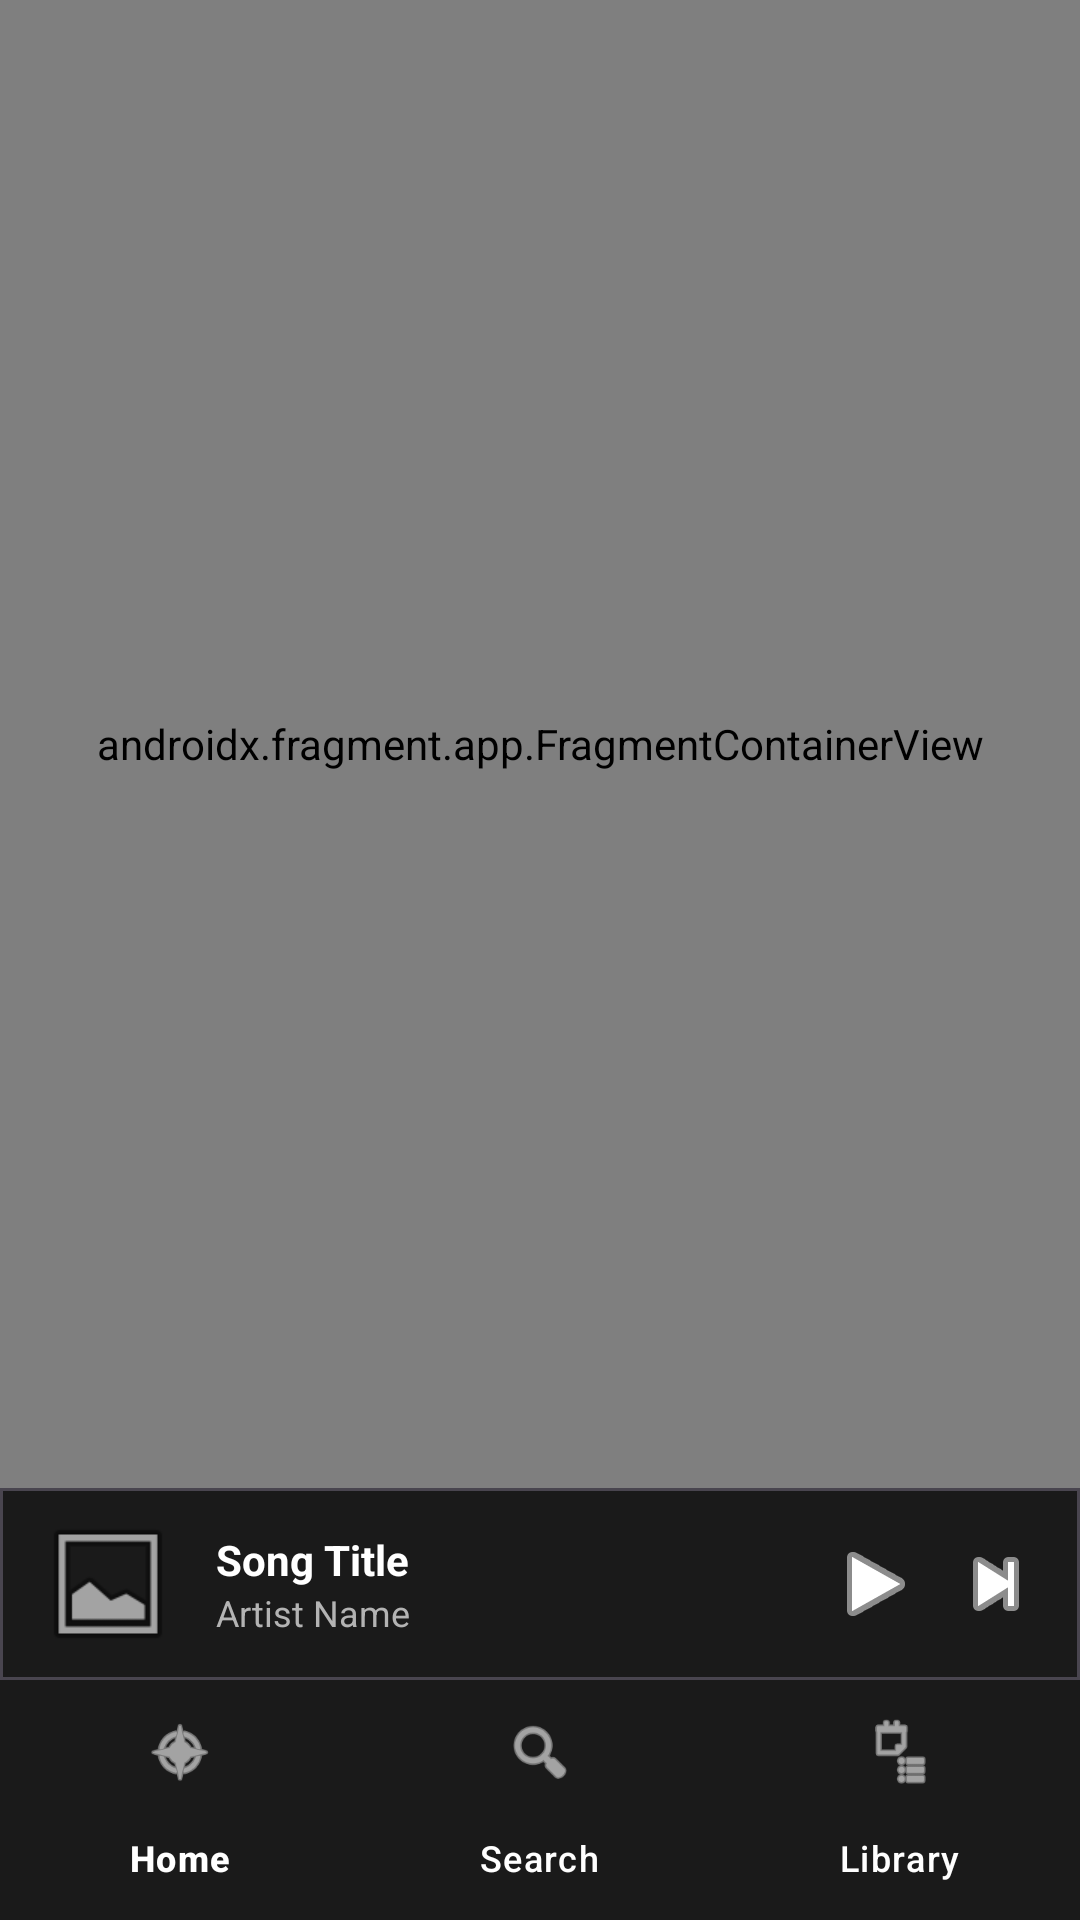

Named icons in this screenshot (1080×1920) and their bounding boxes, (x1, y1, x2, y2):
gallery: (58, 1534, 158, 1634)
Next: (973, 1557, 1019, 1611)
Play or Pause: (847, 1552, 905, 1616)
